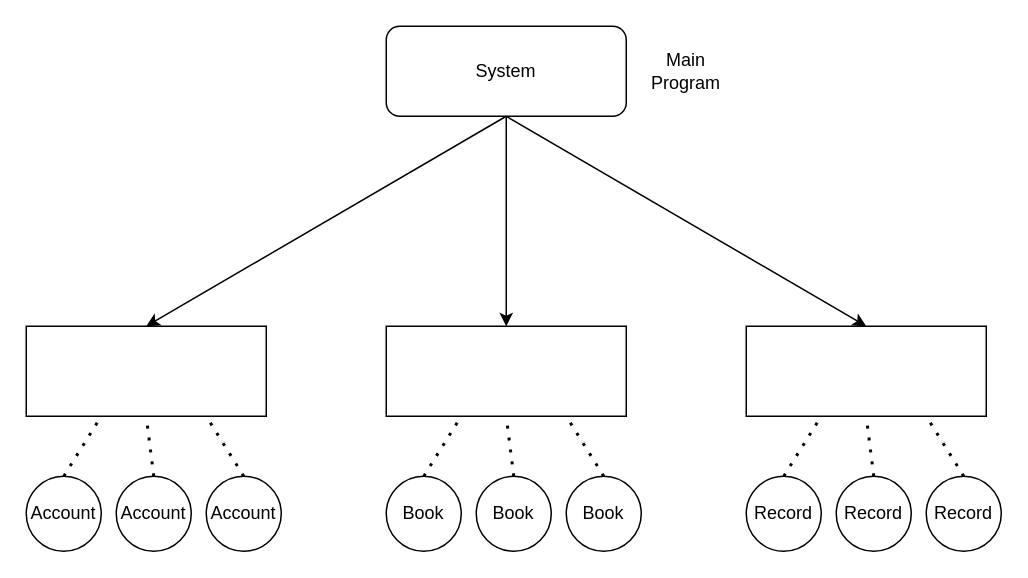
Image size: 1028x578. Some labels were removed from this diagram. Each missing label, with the box of its shape:
Account Manager: (25, 325, 266, 416)
Book Manager: (385, 325, 626, 416)
Transaction Manager: (745, 325, 986, 416)
